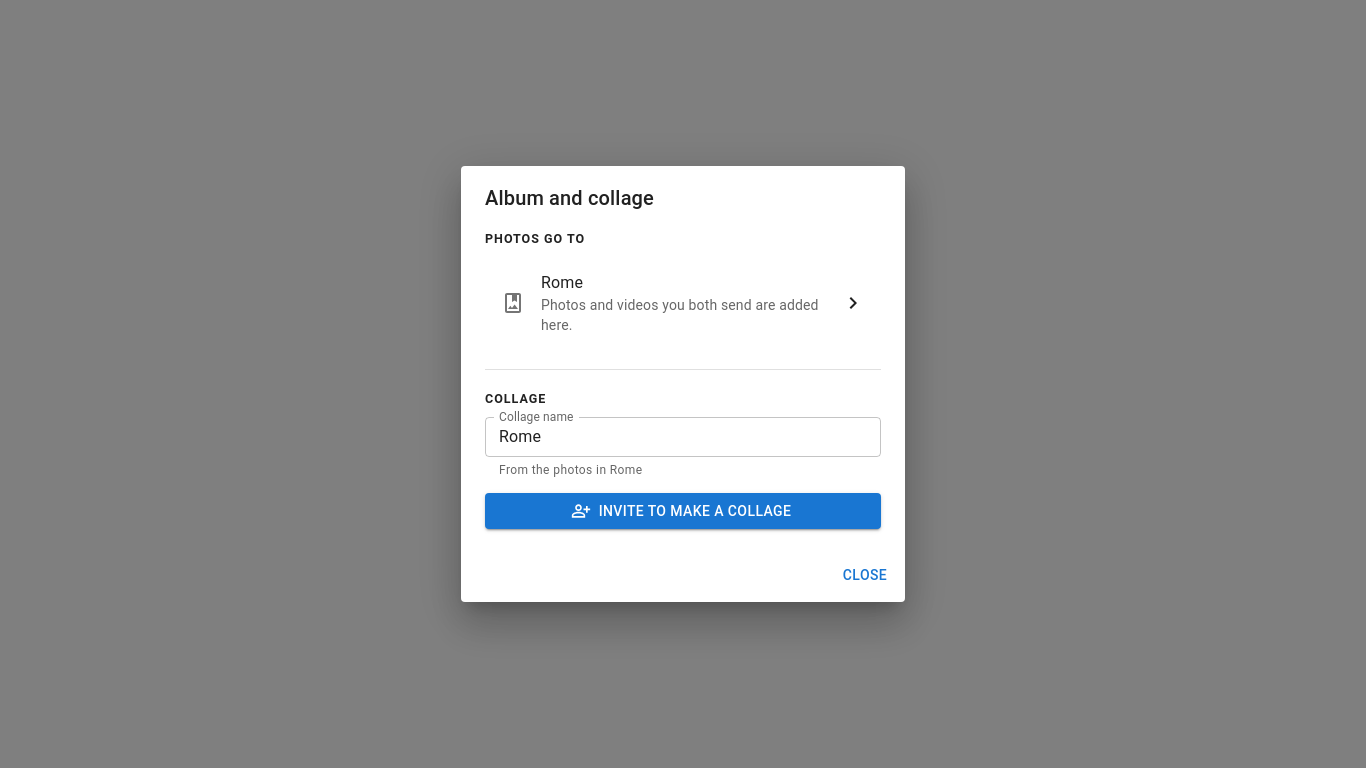
AlbumCollageDialog › goes back from the album list without changing anything
Click the button "Rome Photos and videos you both send are added here.". click: click(683, 303)
box: [485,257,881,349]
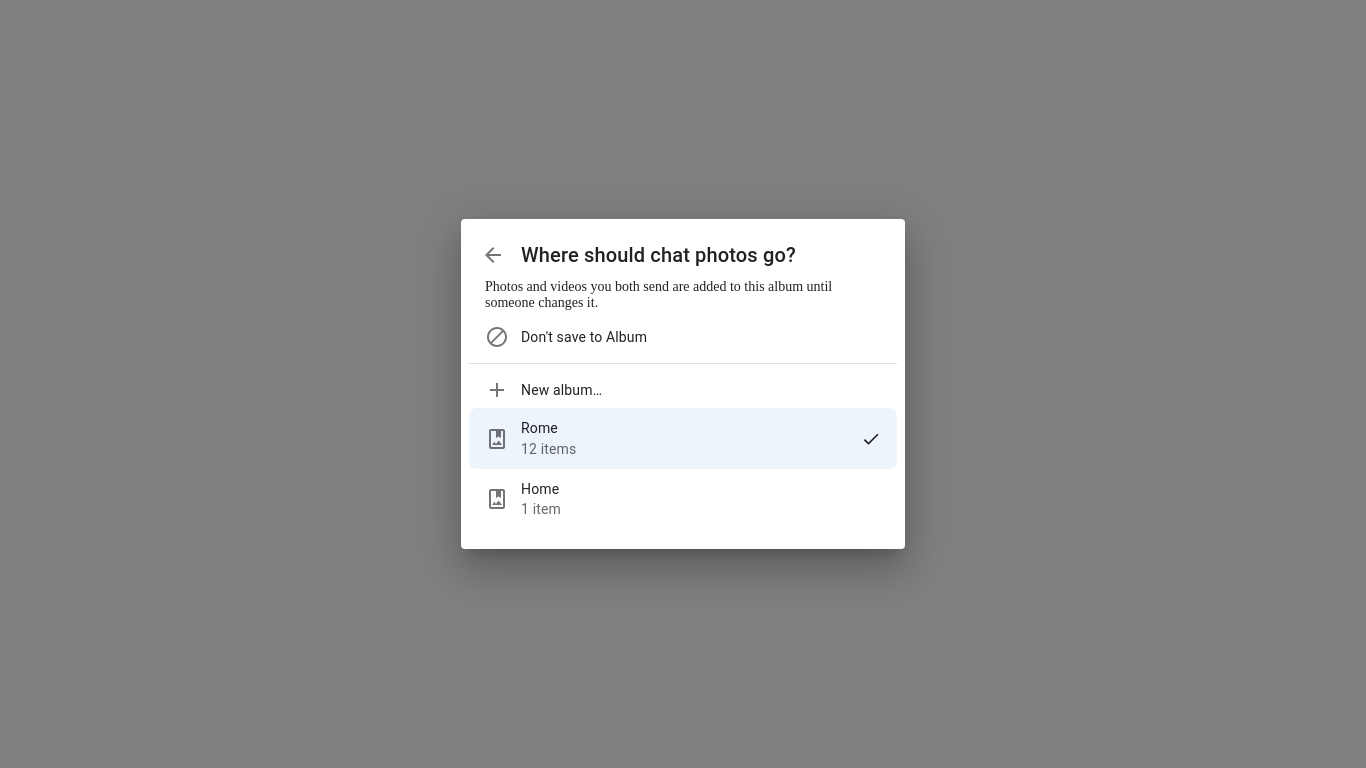
Click the button named "Back". click: click(493, 256)
box: [473,236,513,276]
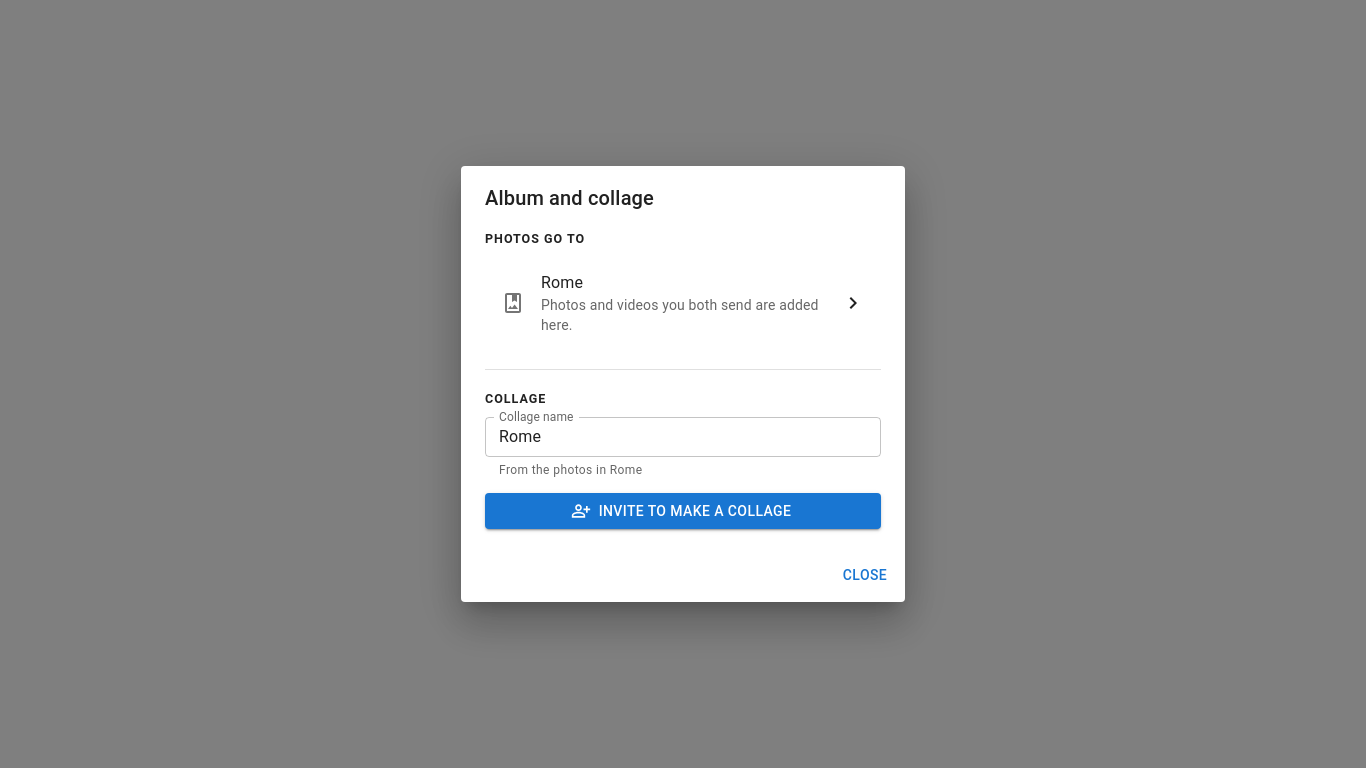
Expected: the field labelled "Collage name" holds "Rome", [485,417,881,457]
